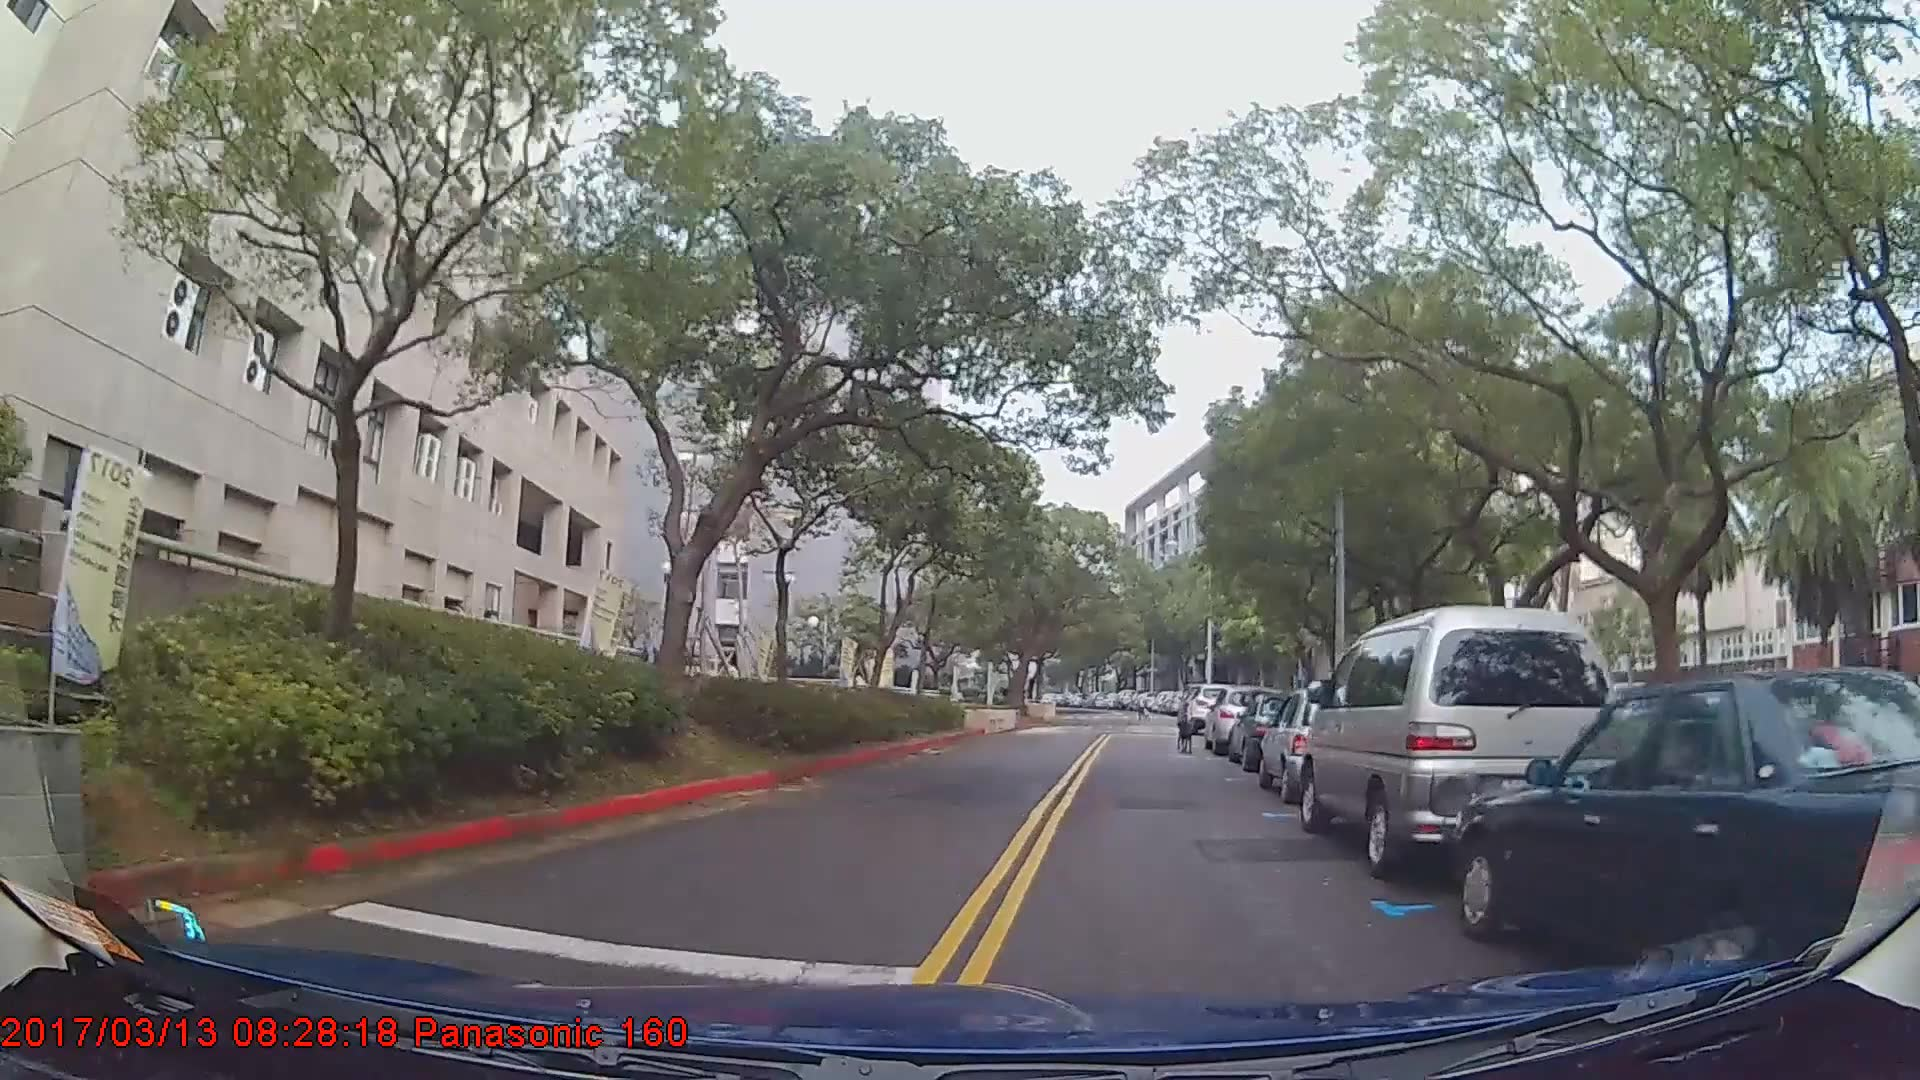vehicle: (1453, 662, 1917, 990), (1296, 603, 1618, 881)
